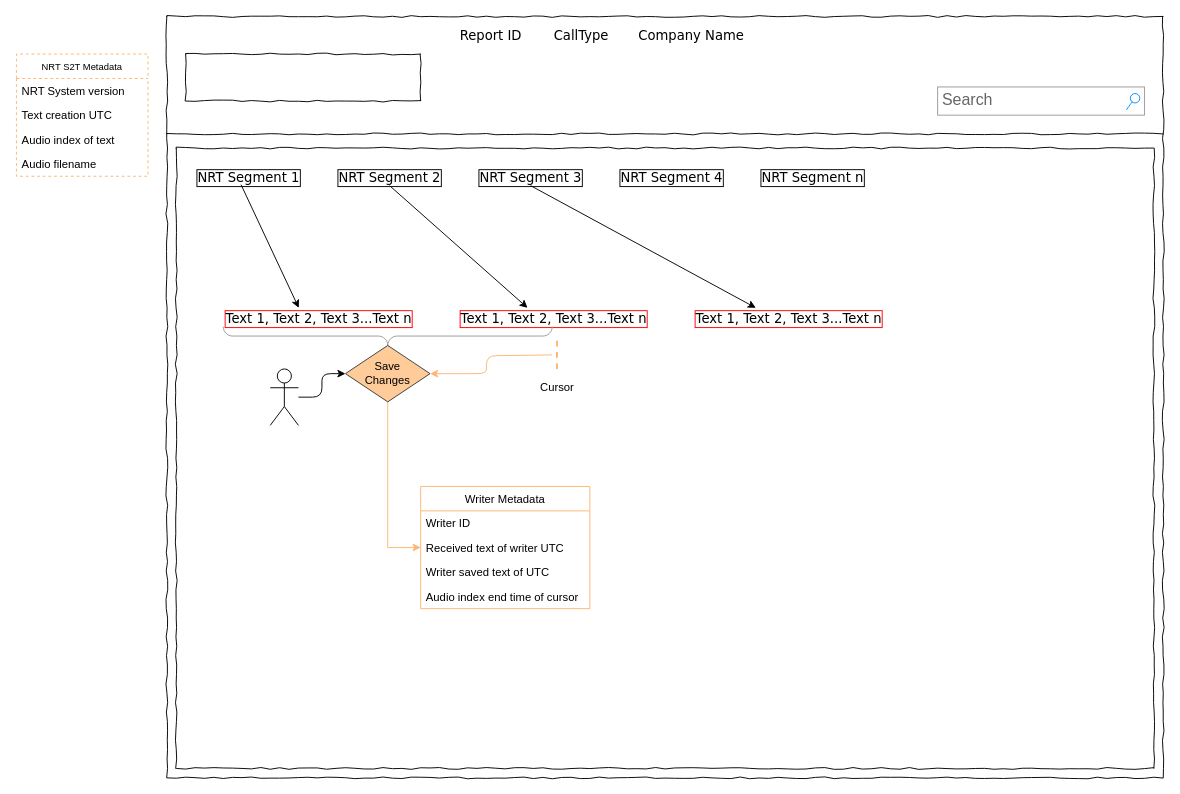
Some shapes in this 1180 by 794 pixel diagram are drawn without their labels. The shapes that lost their labels are listed below. From the top down, each one's centre as x and y in pixels, then its label:
At [303,77]: "The Alchemist".
At [283,396]: "Writer".
